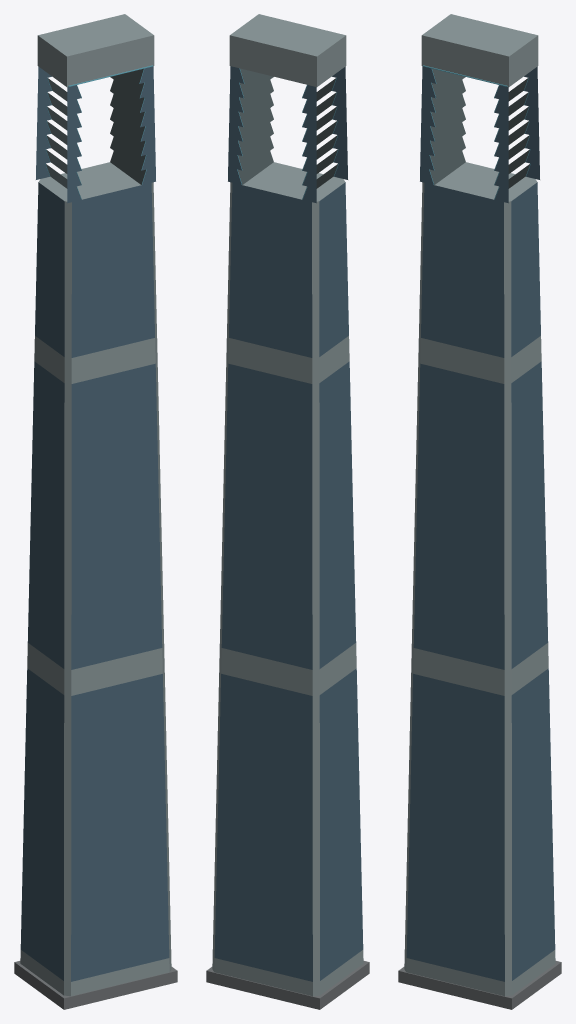
Rendered from swfc_far.glb.
The picture shows the model from 3 angles, left to right: view 1: azimuth 30°, elevation 25°; view 2: azimuth 150°, elevation 25°; view 3: azimuth 330°, elevation 25°; orthographic projection.
Parts seen in each view (by area): view 1: Glazing, Silver, Steel, Plinth, NightCool; view 2: Glazing, Silver, Steel, Plinth; view 3: Glazing, Silver, Steel, Plinth, NightCool.
Boxes of the visible parts, x1,y1,x2,y2 form: Glazing: (20,66,169,981); Silver: (20,14,171,996); Steel: (46,68,145,188); Plinth: (14,961,177,1009); NightCool: (45,65,152,199); Glazing: (214,66,363,981); Silver: (212,14,363,996); Steel: (238,68,337,188); Plinth: (206,961,369,1009); Glazing: (406,66,555,981); Silver: (404,14,555,996); Steel: (430,68,529,188); Plinth: (398,961,561,1009); NightCool: (423,65,530,199).
Bounding box in the file's own units: 62 × 492 × 47.
